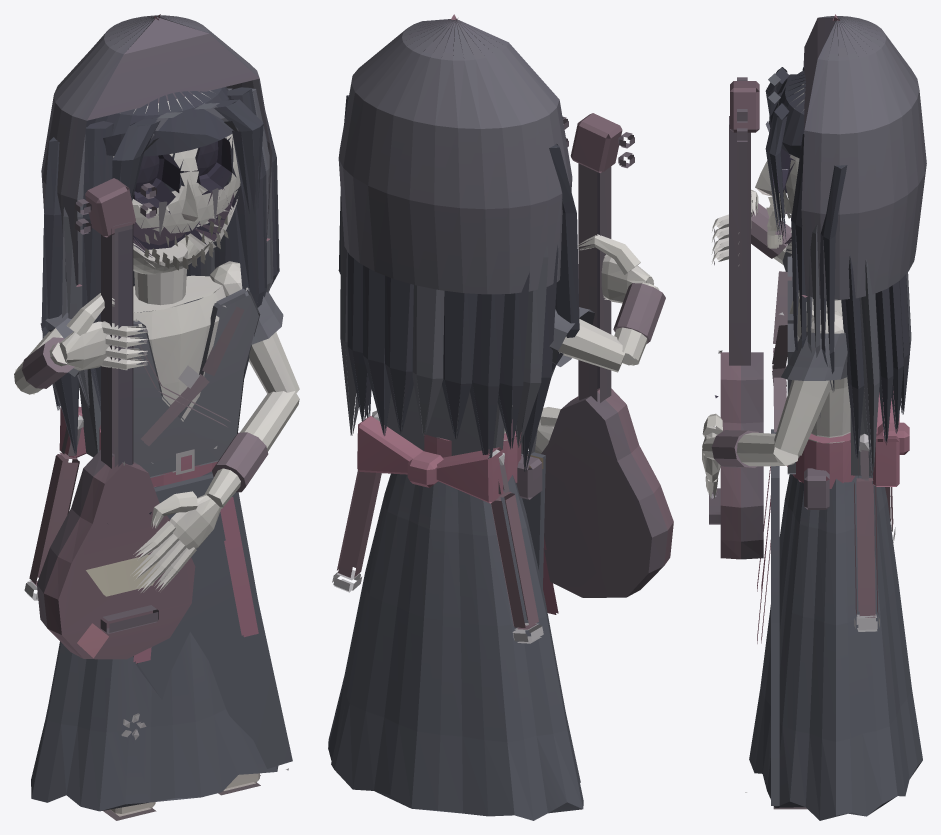
The model's file is MimicAssassin.glb.
3 views of the same model, side by side, from view 1: azimuth 30°, elevation 25°; view 2: azimuth 150°, elevation 25°; view 3: azimuth 270°, elevation 25° (orthographic). The views are drawn at different scales.
Parts seen in each view (by area): view 1: Body, Head, ArmL, ArmR, LegR; view 2: Body, Head, ArmR, ArmL; view 3: Body, Head, ArmL, ArmR.
Boxes of the visible parts, bbox=[...] form: Body: bbox=[24, 178, 292, 811]; Head: bbox=[41, 14, 279, 456]; ArmL: bbox=[130, 261, 299, 593]; ArmR: bbox=[14, 293, 148, 394]; LegR: bbox=[103, 802, 156, 820]; Body: bbox=[328, 113, 673, 820]; Head: bbox=[338, 14, 579, 471]; ArmR: bbox=[549, 234, 665, 372]; ArmL: bbox=[534, 407, 560, 453]; Body: bbox=[709, 77, 922, 820]; Head: bbox=[755, 14, 926, 474]; ArmL: bbox=[702, 311, 847, 498]; ArmR: bbox=[711, 189, 791, 271].
Size of the model in its own units: 3.09 by 7.84 by 2.11.
